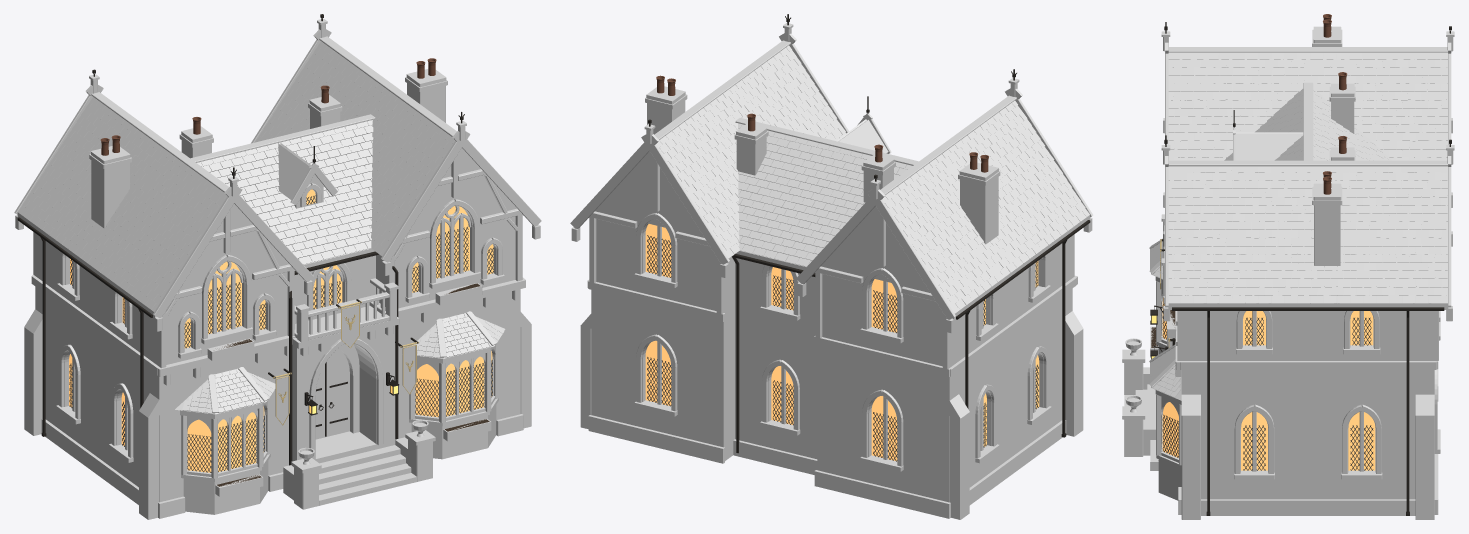
File: SilverbrookNorthridgeHouse4.glb
The picture shows the model from 3 angles, left to right: view 1: azimuth 30°, elevation 25°; view 2: azimuth 150°, elevation 25°; view 3: azimuth 270°, elevation 25°; orthographic projection. The views are drawn at different scales.
Visible parts, largest first — view 1: SM_SBNorthridgeHouse4_Masonry, SM_SBNorthridgeHouse4_Roof, SM_SBNorthridgeHouse4_Timber, SM_SBNorthridgeHouse4_Details, SM_SBNorthridgeHouse4_Door2, SM_SBNorthridgeHouse4_Door1; view 2: SM_SBNorthridgeHouse4_Masonry, SM_SBNorthridgeHouse4_Roof, SM_SBNorthridgeHouse4_Timber, SM_SBNorthridgeHouse4_Details; view 3: SM_SBNorthridgeHouse4_Roof, SM_SBNorthridgeHouse4_Masonry, SM_SBNorthridgeHouse4_Details, SM_SBNorthridgeHouse4_Timber.
Part boxes in pixels (x1,y1,x2,y2): SM_SBNorthridgeHouse4_Masonry: (24, 69, 531, 519); SM_SBNorthridgeHouse4_Roof: (18, 36, 505, 414); SM_SBNorthridgeHouse4_Timber: (14, 18, 541, 496); SM_SBNorthridgeHouse4_Details: (17, 14, 493, 486); SM_SBNorthridgeHouse4_Door2: (325, 348, 349, 436); SM_SBNorthridgeHouse4_Door1: (315, 364, 325, 439); SM_SBNorthridgeHouse4_Masonry: (580, 86, 1083, 519); SM_SBNorthridgeHouse4_Roof: (654, 40, 1089, 313); SM_SBNorthridgeHouse4_Timber: (570, 23, 1093, 376); SM_SBNorthridgeHouse4_Details: (645, 14, 1090, 461); SM_SBNorthridgeHouse4_Roof: (1149, 47, 1447, 400); SM_SBNorthridgeHouse4_Masonry: (1122, 26, 1440, 519); SM_SBNorthridgeHouse4_Details: (1125, 14, 1451, 515); SM_SBNorthridgeHouse4_Timber: (1150, 31, 1454, 470).
Bounding box in the file's own units: 11.9 × 9.95 × 8.67.
